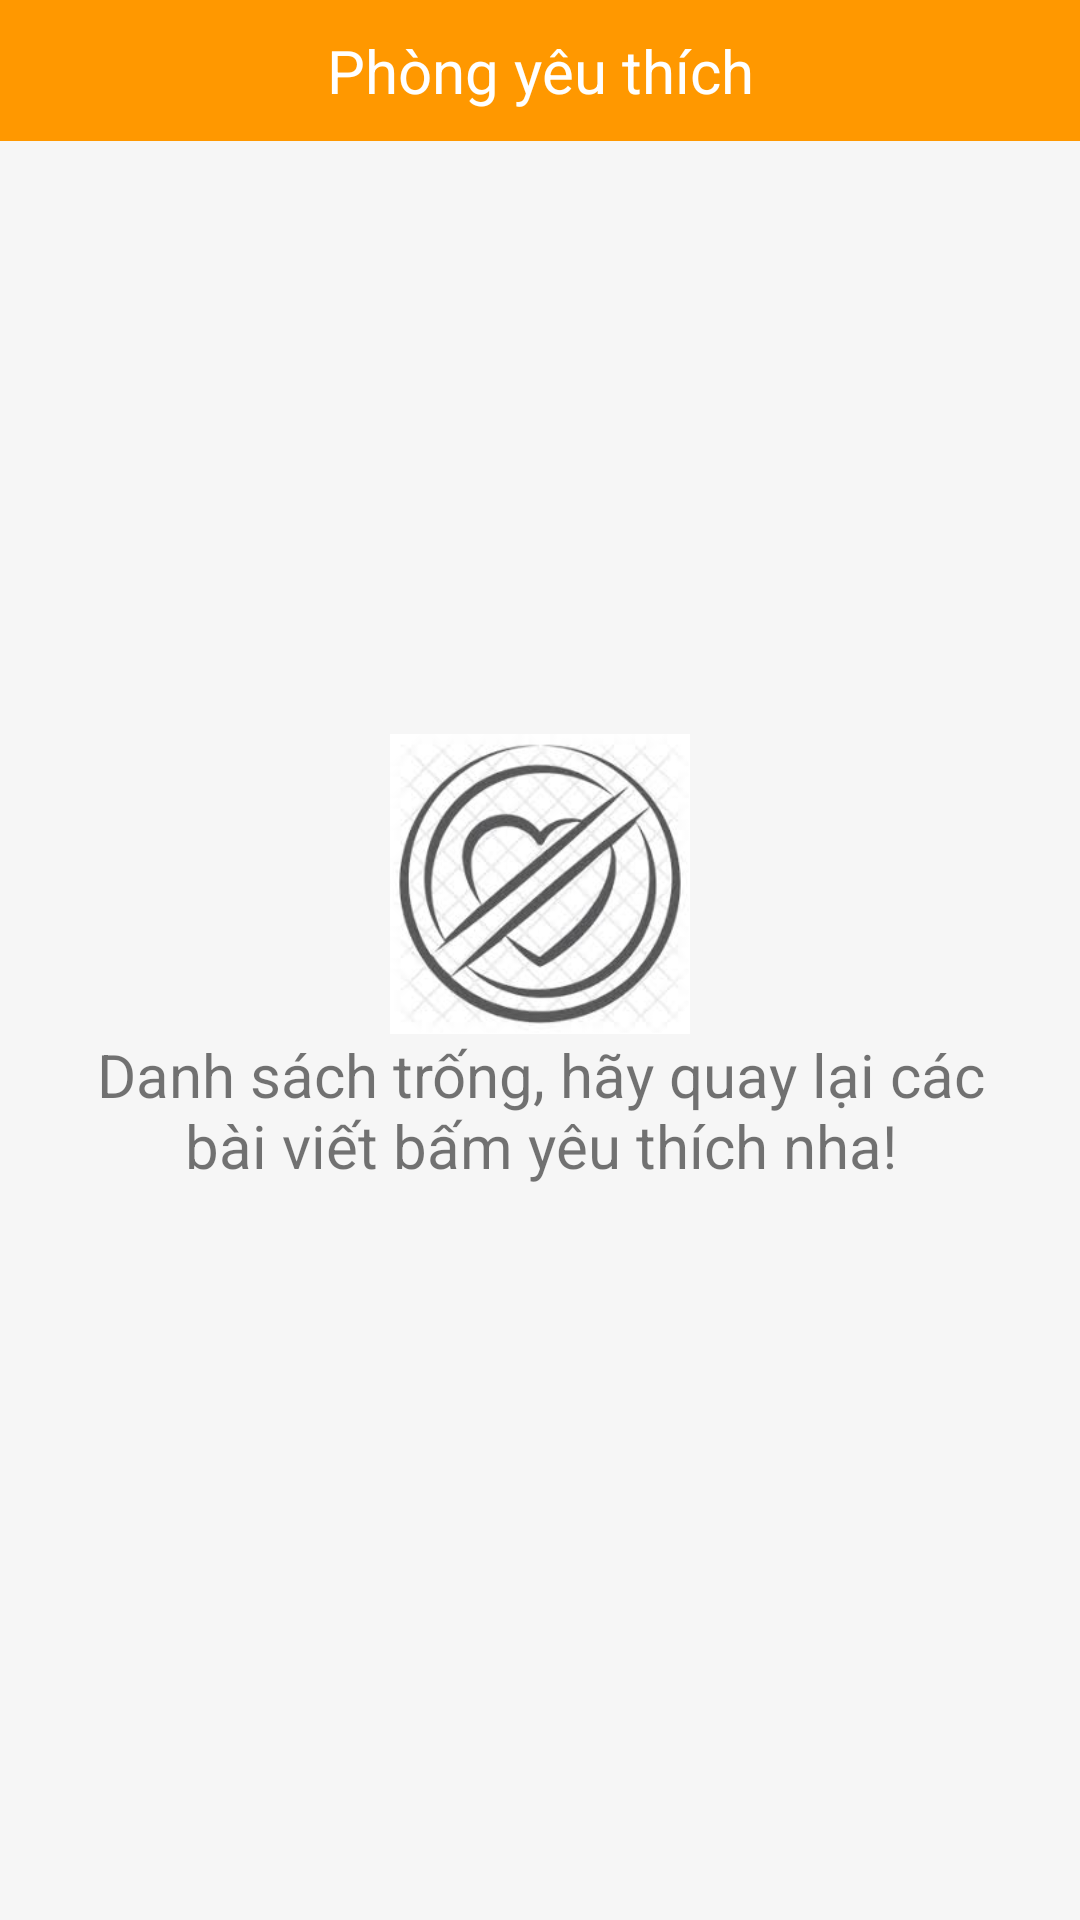

Where icons sit on this 1080 x 1920 app screen, as (x1=x1, y1=y1, x2=x2, y2=y2):
noheart: (x1=399, y1=745, x2=681, y2=1023)
